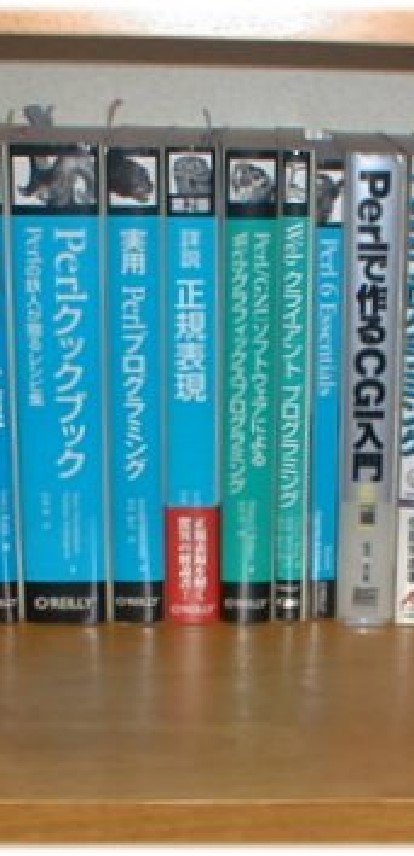book: (7, 135, 112, 628), (104, 140, 169, 627), (344, 141, 408, 629), (161, 142, 224, 628), (217, 138, 279, 627), (306, 152, 347, 618), (275, 141, 312, 621)
